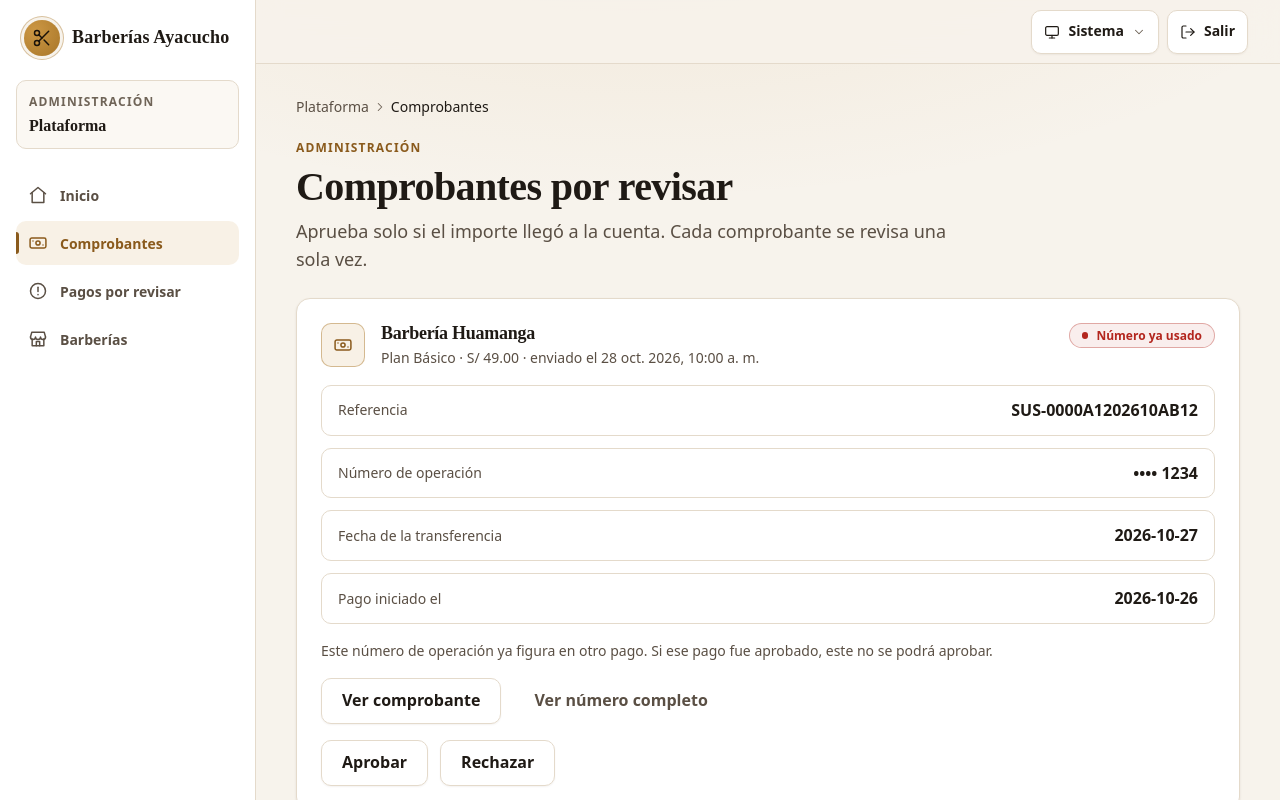
Test case: Comprobantes por revisar (/plataforma/comprobantes) › el número completo solo aparece al pedir el detalle
Click the button "Ver número completo": (621, 701) x1=514 y1=678 x2=729 y2=724
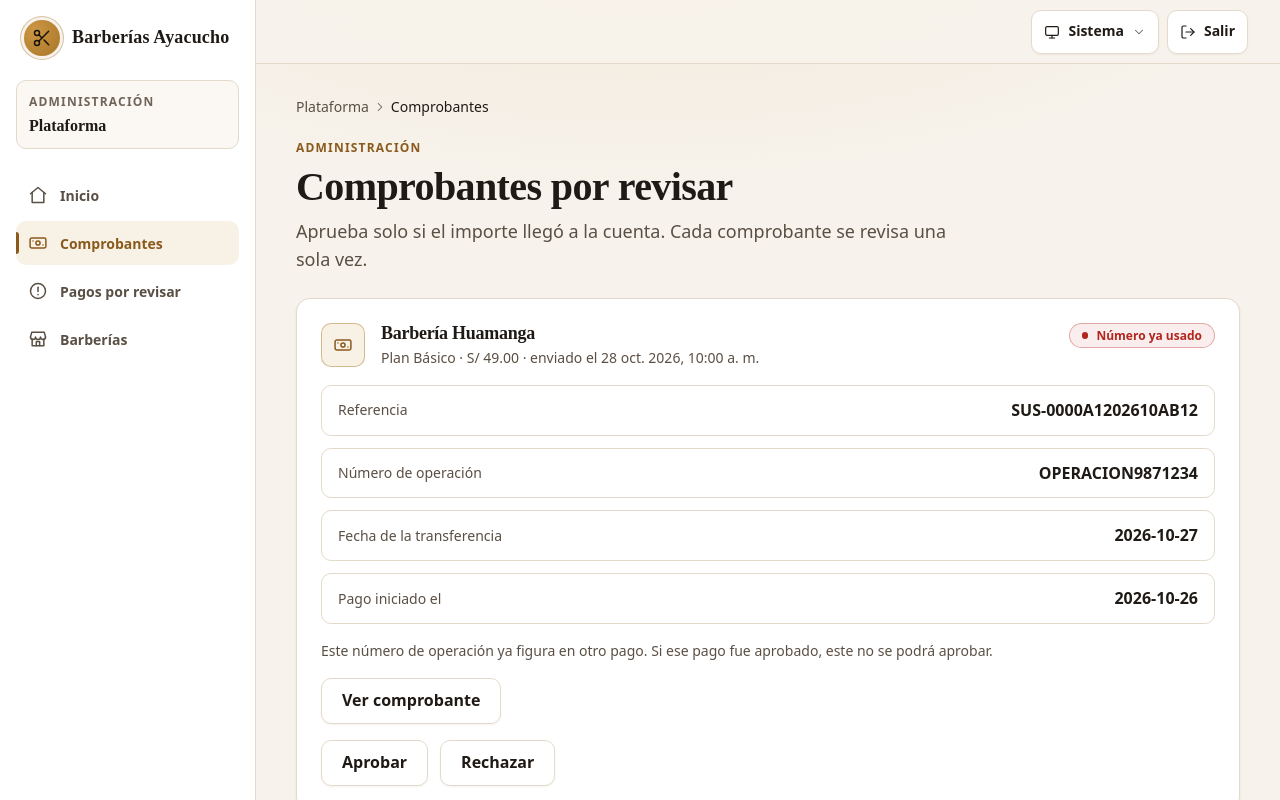
Expected: the text "OPERACION9871234" is shown, x1=1039 y1=460 x2=1198 y2=485
